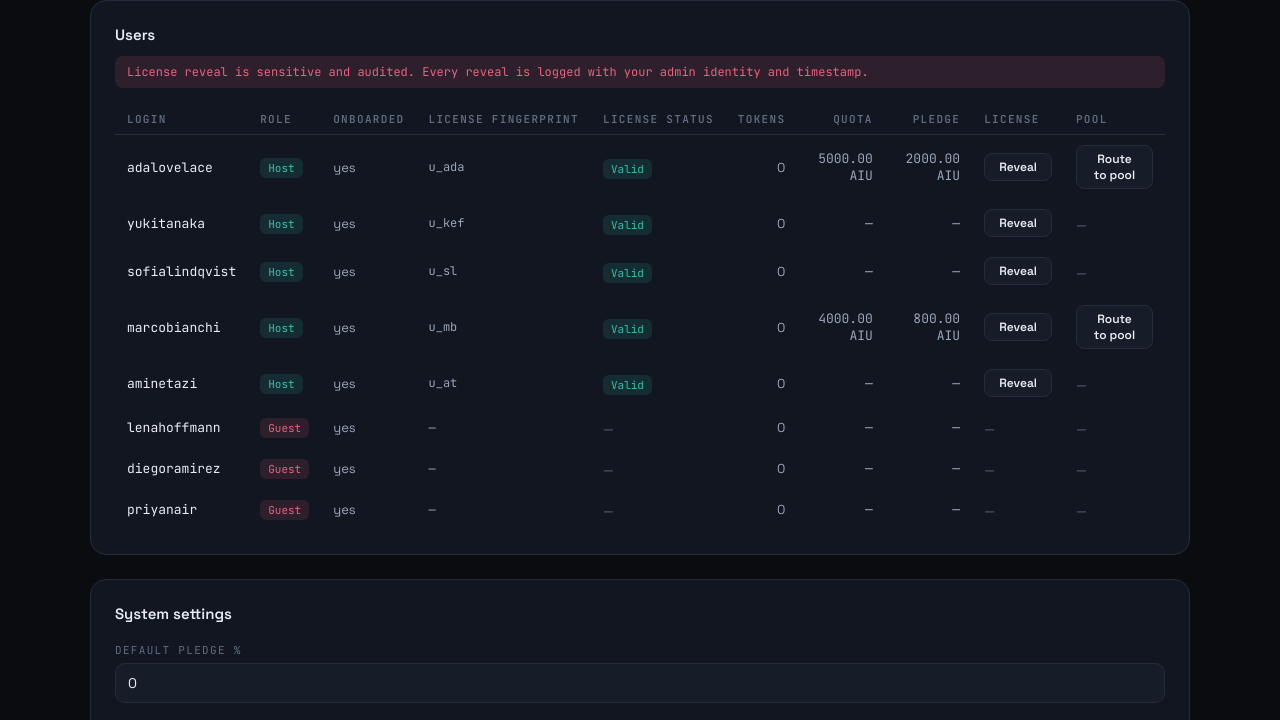
Test: AdminScreen › reveals a PAT on click
Click the 1st button "Reveal" at (1018, 167), box [984,153,1052,181]
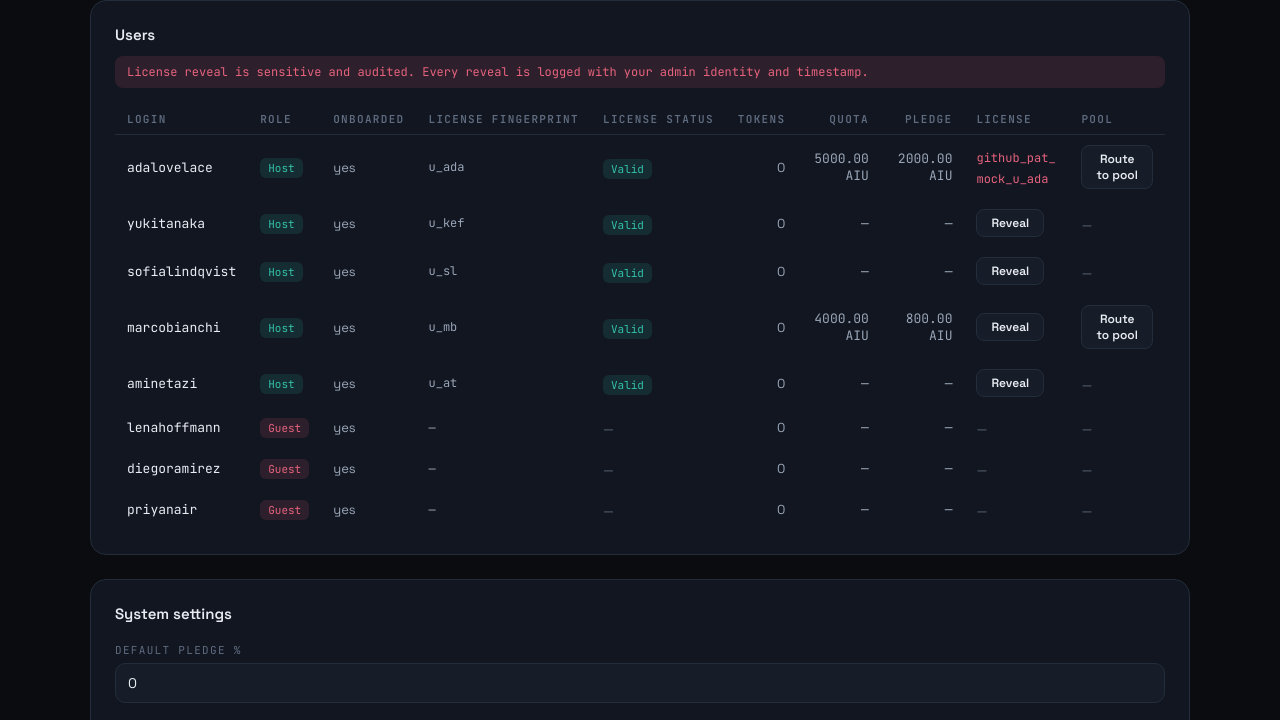
Check: the text "github_pat_mock_u_ada" is shown, box [976,150,1056,187]
